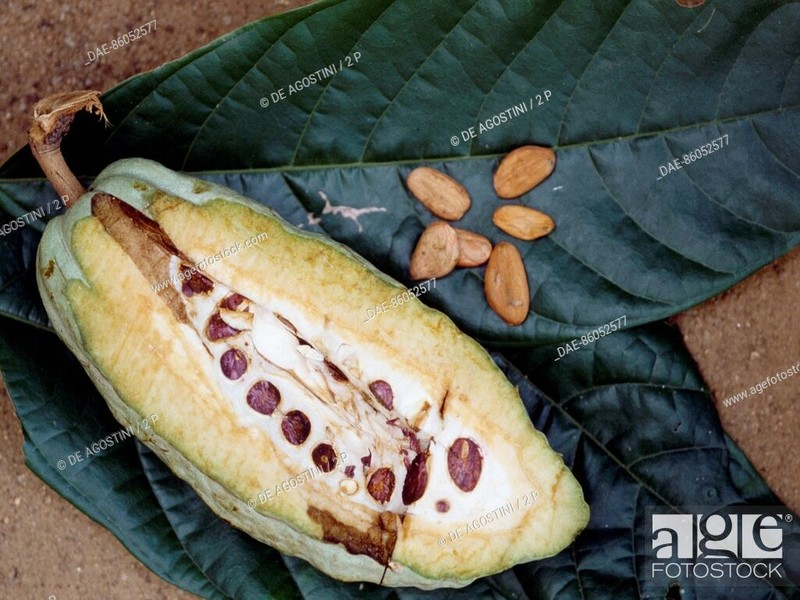Cacaopod: (37, 153, 582, 578)
